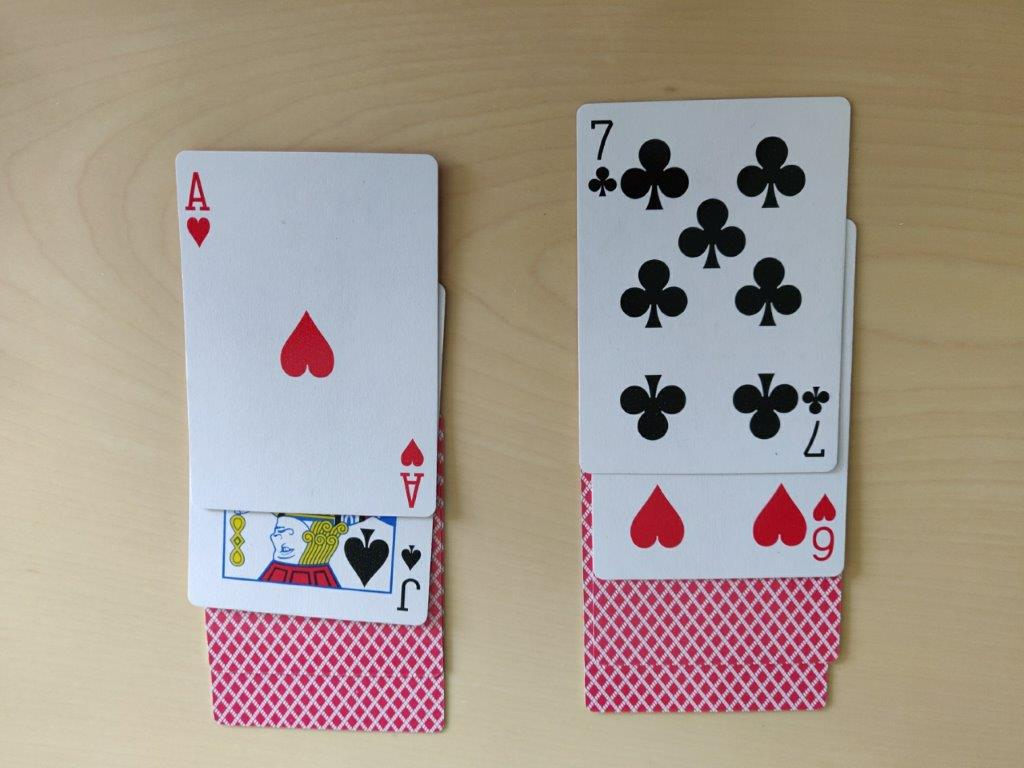7C: (578, 109, 624, 201)
AH: (181, 159, 224, 255)
BACK: (204, 668, 449, 738), (204, 610, 447, 676), (578, 654, 839, 715)
BCAK: (584, 574, 847, 664)
